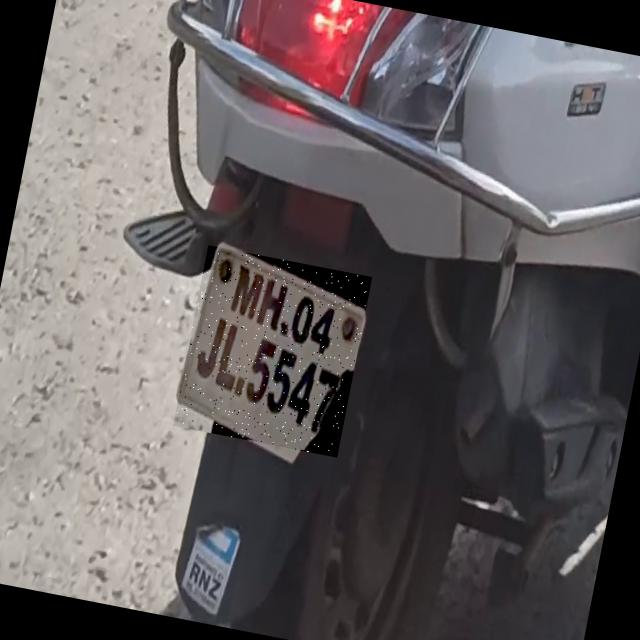Plate: (174, 246, 373, 459)
